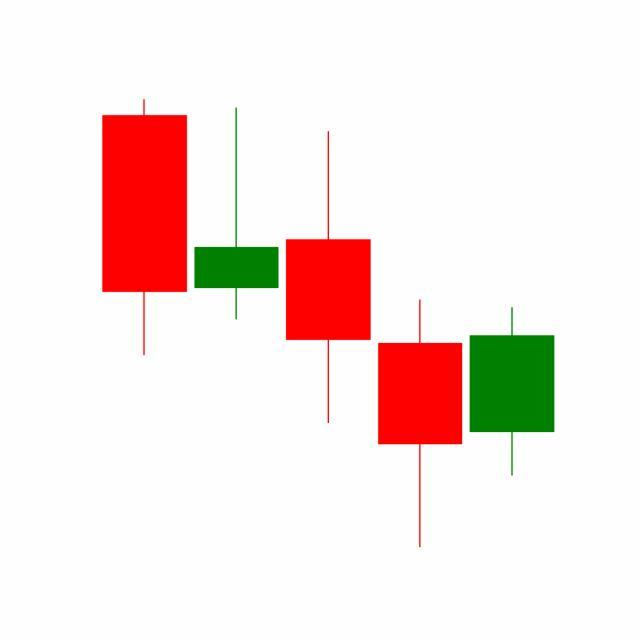Upside-Downside Gap Three Methods: (280, 127, 555, 549)
